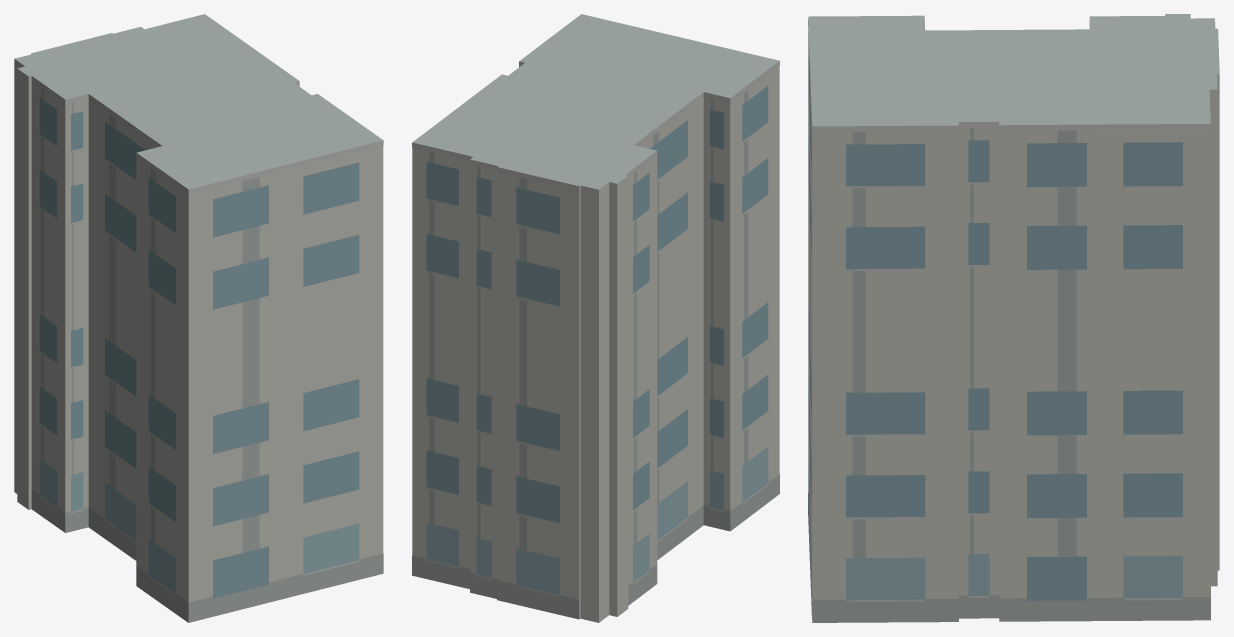
File: survey-upis-32546326.glb
3 views of the same model, side by side, from view 1: azimuth 30°, elevation 25°; view 2: azimuth 150°, elevation 25°; view 3: azimuth 270°, elevation 25° (orthographic). The views are drawn at different scales.
Parts seen in each view (by area): view 1: survey-upis-32546326.tmp; view 2: survey-upis-32546326.tmp; view 3: survey-upis-32546326.tmp.
Boxes of the visible parts, x1=… form: survey-upis-32546326.tmp: x1=14, y1=14, x2=383, y2=622; survey-upis-32546326.tmp: x1=412, y1=14, x2=779, y2=622; survey-upis-32546326.tmp: x1=808, y1=14, x2=1219, y2=622.
Size of the model in its own units: 9.91 by 20.4 by 15.34.
